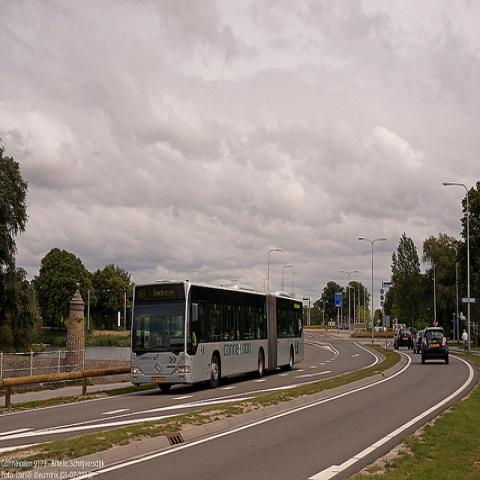bus: (129, 279, 304, 391)
car: (419, 324, 449, 365), (393, 328, 414, 349), (413, 330, 424, 354), (408, 328, 417, 338)
